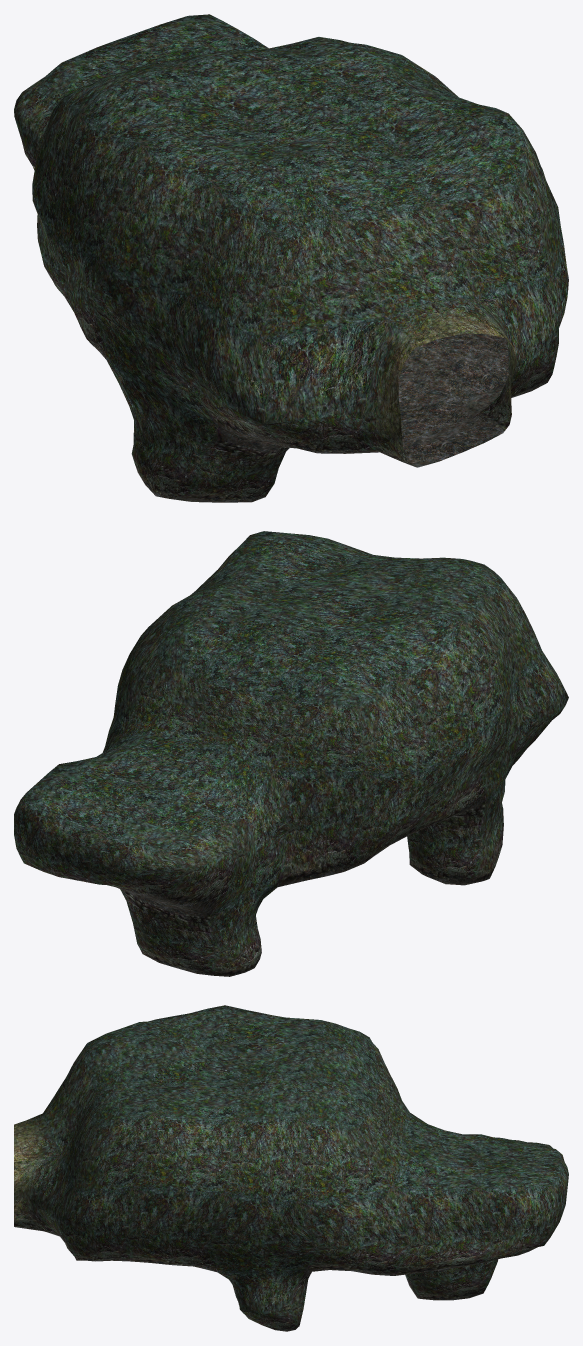
The model's file is thm_all_cave_s01_damprock_mirror_r7_mesh_r7.fbx.
The picture shows the model from 3 angles, top to bottom: view 1: azimuth 30°, elevation 25°; view 2: azimuth 150°, elevation 25°; view 3: azimuth 270°, elevation 25°; orthographic projection. The views are drawn at different scales.
Visible parts, largest first — view 1: mesh_node; view 2: mesh_node; view 3: mesh_node.
Part boxes in pixels (<box>): mesh_node: <box>14,14,568,502</box>; mesh_node: <box>14,531,568,976</box>; mesh_node: <box>14,1005,568,1331</box>.
Size of the model in its own units: 38.19 by 31.19 by 64.55.
